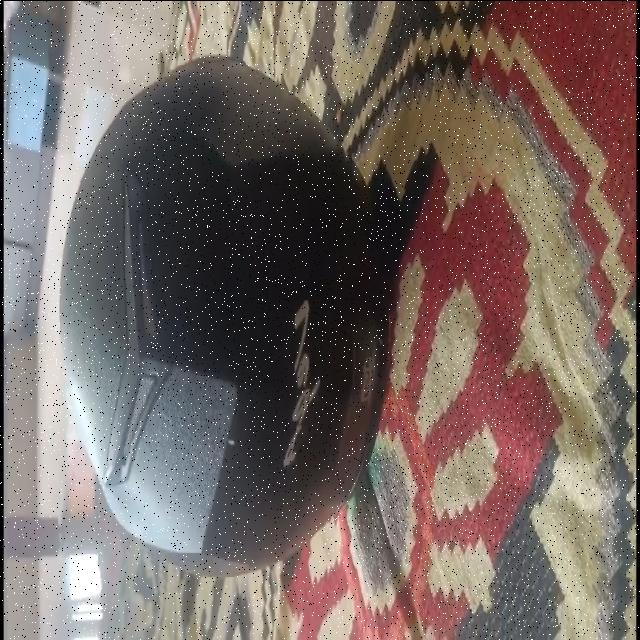Helmet: (61, 56, 384, 574)
